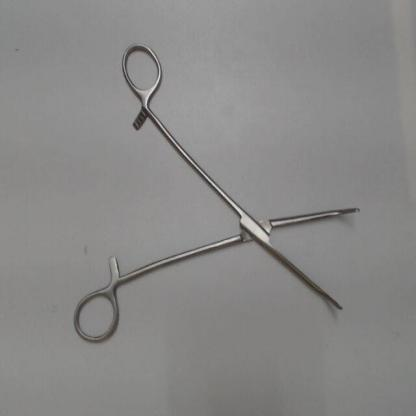Lahey Forceps: (69, 36, 365, 349)
